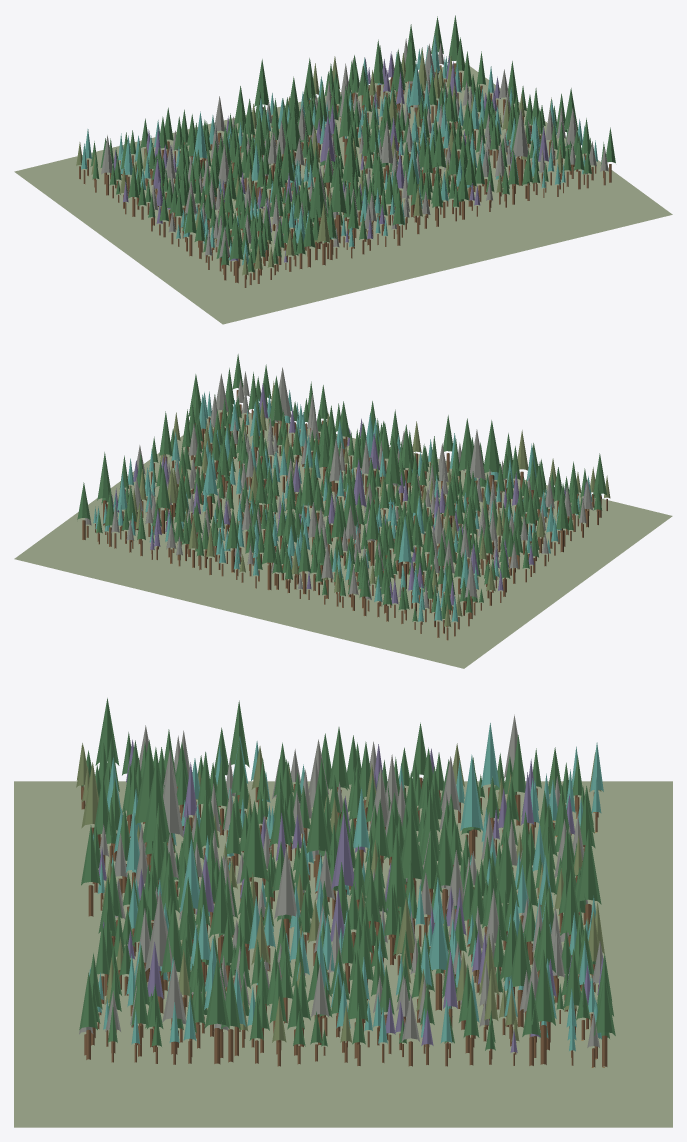
3 views of the same model, one above another, from view 1: azimuth 30°, elevation 25°; view 2: azimuth 150°, elevation 25°; view 3: azimuth 270°, elevation 25° (orthographic). The views are drawn at different scales.
Visible parts, largest first — view 1: ground, tree:T00794, tree:T00776, tree:T00792; view 2: ground, tree:T00792, tree:T00017; view 3: ground, tree:T00628, tree:T00136, tree:T00680, tree:T00488, tree:T00017, tree:T00776, tree:T00299, tree:T00794, tree:T00212, tree:T00165, tree:T00564 (+27 smaller).
Boxes of the visible parts, x1,y1,x2,y2 form: ground: (14, 62, 672, 324); tree:T00794: (331, 161, 347, 243); tree:T00776: (513, 107, 528, 185); tree:T00792: (309, 166, 327, 249); ground: (14, 410, 672, 668); tree:T00792: (482, 420, 499, 496); tree:T00017: (261, 517, 277, 589); ground: (14, 781, 672, 1127); tree:T00628: (240, 800, 268, 905); tree:T00136: (531, 948, 555, 1064); tree:T00680: (204, 958, 229, 1064); tree:T00488: (306, 780, 331, 893); tree:T00017: (576, 827, 601, 925); tree:T00776: (145, 889, 172, 1013); tree:T00299: (429, 902, 448, 1010); tree:T00794: (142, 760, 169, 843); tree:T00212: (460, 754, 483, 857); tree:T00165: (508, 918, 530, 1027); tree:T00564: (274, 847, 298, 948).
Bounding box in the file's own units: 357 × 75.33 × 287.
